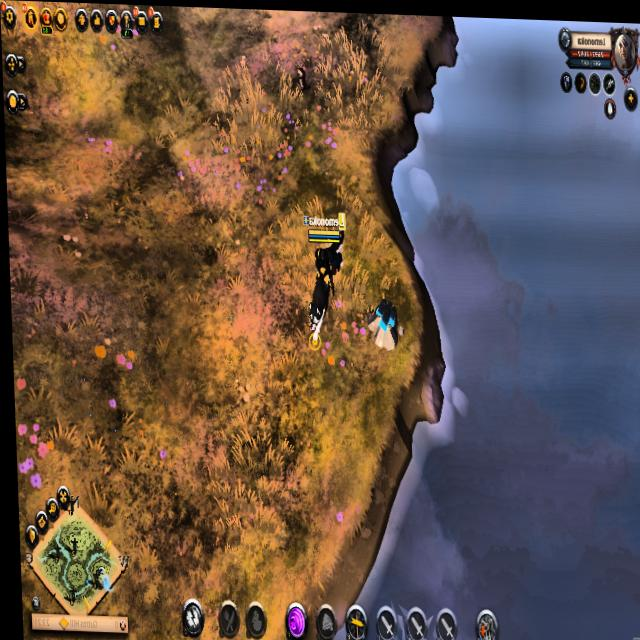ore tier 4: (363, 296, 398, 350)
